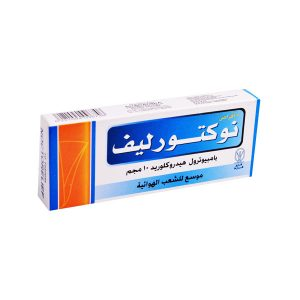Medicine: (33, 88, 265, 200)
